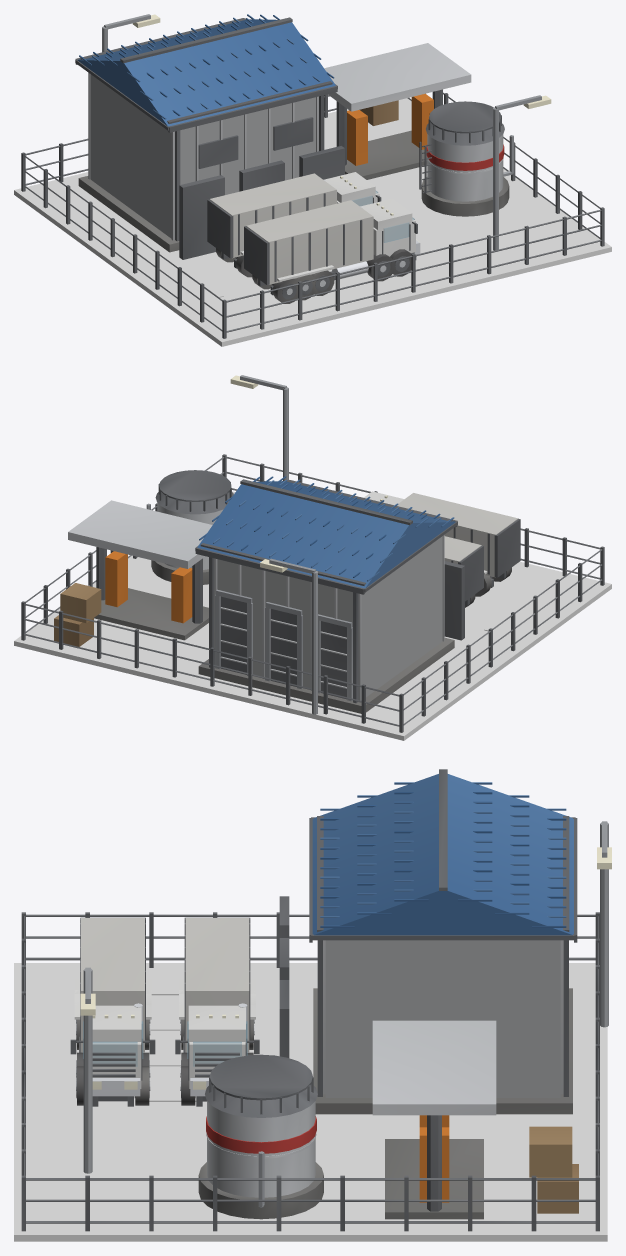
Rendered from Fleet_P2.fbx.
3 renders of one model, top to bottom at view 1: azimuth 30°, elevation 25°; view 2: azimuth 150°, elevation 25°; view 3: azimuth 270°, elevation 25°, orthographic. The views are drawn at different scales.
Parts seen in each view (by area): view 1: Fleet.Garage, Fleet.Yard, Fleet.Parked1, Fleet.FuelIsland, Fleet.Fence, Fleet.FuelTank, Fleet.Parked0, Fleet.Doors, Fleet.Lamp1, Fleet.Crates, Fleet.Lamp0; view 2: Fleet.Garage, Fleet.Yard, Fleet.FuelIsland, Fleet.Fence, Fleet.Parked1, Fleet.FuelTank, Fleet.Crates, Fleet.Doors, Fleet.Parked0, Fleet.Lamp0, Fleet.Lamp1; view 3: Fleet.Garage, Fleet.Yard, Fleet.FuelIsland, Fleet.FuelTank, Fleet.Fence, Fleet.Parked1, Fleet.Parked0, Fleet.Crates, Fleet.Lamp1, Fleet.Lamp0, Fleet.Doors, Fleet.Bays.
Part boxes in pixels (left/top/right/bottom): Fleet.Garage: left=75, top=14, right=337, bottom=252; Fleet.Yard: left=14, top=98, right=611, bottom=346; Fleet.Parked1: left=244, top=199, right=420, bottom=303; Fleet.FuelIsland: left=324, top=43, right=471, bottom=179; Fleet.Fence: left=21, top=92, right=604, bottom=338; Fleet.FuelTank: left=419, top=101, right=513, bottom=216; Fleet.Parked0: left=207, top=172, right=381, bottom=277; Fleet.Doors: left=179, top=146, right=344, bottom=259; Fleet.Lamp1: left=493, top=95, right=551, bottom=250; Fleet.Crates: left=359, top=100, right=398, bottom=125; Fleet.Lamp0: left=102, top=14, right=160, bottom=52; Fleet.Garage: left=195, top=476, right=457, bottom=713; Fleet.Yard: left=14, top=491, right=611, bottom=740; Fleet.FuelIsland: left=68, top=500, right=212, bottom=640; Fleet.Fence: left=21, top=454, right=604, bottom=732; Fleet.Parked1: left=364, top=491, right=520, bottom=596; Fleet.FuelTank: left=146, top=470, right=233, bottom=584; Fleet.Crates: left=54, top=583, right=101, bottom=646; Fleet.Doors: left=444, top=561, right=464, bottom=640; Fleet.Parked0: left=444, top=536, right=483, bottom=607; Fleet.Lamp0: left=260, top=558, right=317, bottom=714; Fleet.Lamp1: left=230, top=375, right=288, bottom=480; Fleet.Garage: left=309, top=769, right=577, bottom=1114; Fleet.Yard: left=14, top=963, right=607, bottom=1241; Fleet.FuelIsland: left=372, top=1020, right=496, bottom=1219; Fleet.FuelTank: left=198, top=1054, right=323, bottom=1219; Fleet.Fence: left=21, top=912, right=599, bottom=1231; Fleet.Parked1: left=70, top=917, right=155, bottom=1106; Fleet.Parked0: left=175, top=917, right=259, bottom=1106; Fleet.Crates: left=529, top=1126, right=578, bottom=1213; Fleet.Lamp1: left=80, top=967, right=95, bottom=1173; Fleet.Lamp0: left=597, top=821, right=611, bottom=1027; Fleet.Doors: left=279, top=896, right=289, bottom=1057; Fleet.Bays: left=149, top=990, right=206, bottom=1101.
Bounding box in the file's own units: 2600 × 1050 × 2418.
